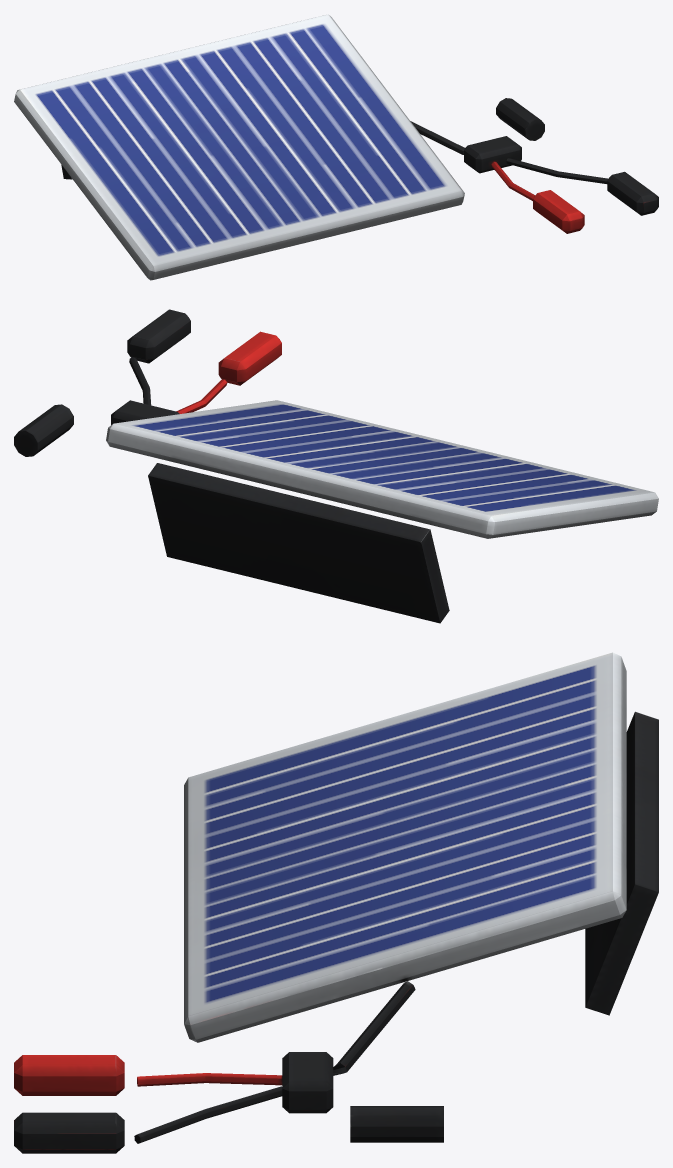
Rendered from RenewableEnergy_SolarMaintainer.fbx.
The picture shows the model from 3 angles, top to bottom: view 1: azimuth 30°, elevation 25°; view 2: azimuth 150°, elevation 25°; view 3: azimuth 270°, elevation 25°; orthographic projection. The views are drawn at different scales.
Parts seen in each view (by area): view 1: SolarMaintainer; view 2: SolarMaintainer; view 3: SolarMaintainer.
Part boxes in pixels (<box>): SolarMaintainer: <box>14,14,658,280</box>; SolarMaintainer: <box>14,309,658,623</box>; SolarMaintainer: <box>14,652,658,1153</box>.
Bounding box in the file's own units: 0.492 × 0.1019 × 0.3786.
